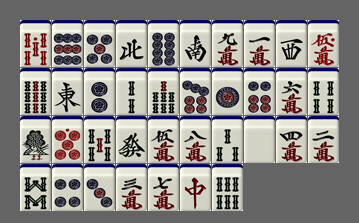0m: (308, 20, 339, 67)
0p: (52, 116, 83, 163)
0s: (20, 20, 51, 67)
1m: (244, 20, 275, 67)
1p: (212, 68, 243, 115)
1s: (20, 116, 51, 163)
1z: (52, 68, 83, 115)
2m: (308, 116, 339, 163)
2p: (84, 68, 115, 115)
2s: (116, 68, 147, 115)
2z: (180, 20, 211, 67)
3m: (116, 164, 147, 211)
3p: (84, 164, 115, 211)
3s: (212, 116, 243, 163)
3z: (276, 20, 307, 67)
4m: (276, 116, 307, 163)
4p: (52, 164, 83, 211)
4s: (308, 68, 339, 115)
4z: (116, 20, 147, 67)
5m: (148, 116, 179, 163)
5p: (84, 20, 115, 67)
5s: (84, 116, 115, 163)
5z: (244, 116, 275, 163)
6m: (276, 68, 307, 115)
6p: (244, 68, 275, 115)
6s: (212, 164, 243, 211)
6z: (116, 116, 147, 163)
7m: (148, 164, 179, 211)
7p: (180, 68, 211, 115)
7s: (148, 68, 179, 115)
7z: (180, 164, 211, 211)
8m: (180, 116, 211, 163)
8p: (148, 20, 179, 67)
8s: (20, 164, 51, 211)
9m: (212, 20, 243, 67)
9p: (52, 20, 83, 67)
9s: (20, 68, 51, 115)
